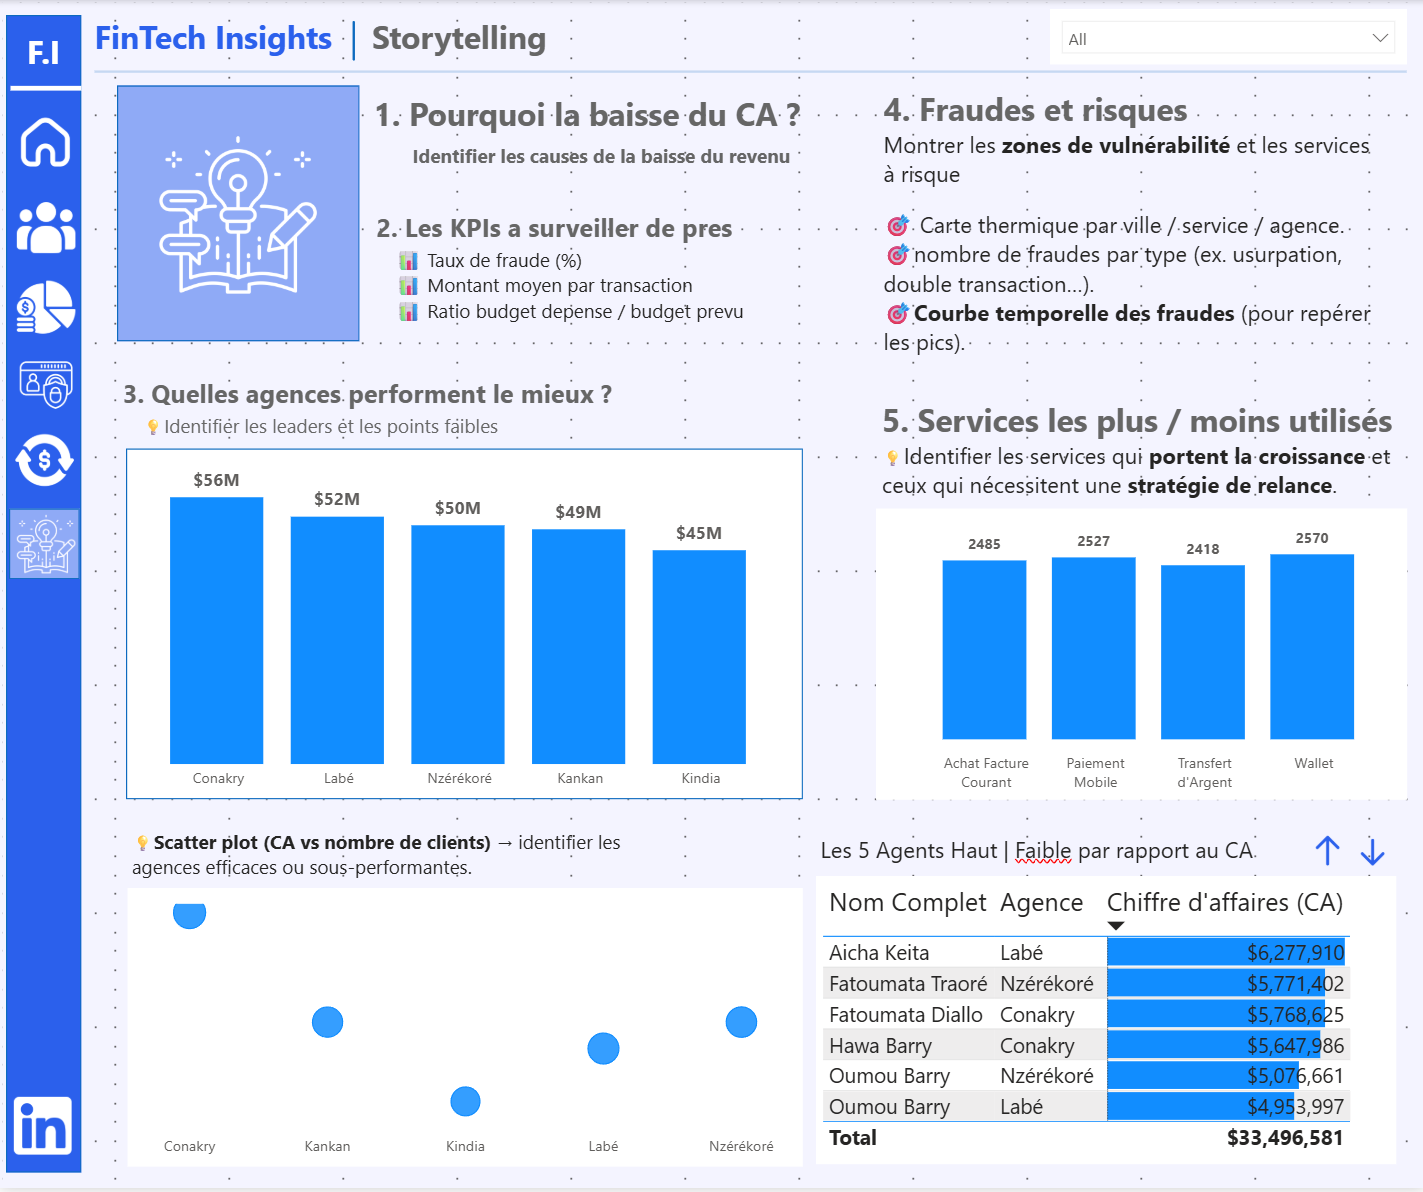

The page's visual inventory and layout, read from the dashboard file:
{"tool":"powerbi","page":{"name":"Storytelling","canvas":[1200,1000],"ordinal":5},"visuals":[{"type":"group","id":"g1","title":"Navigation","box":[5.4,12.3,63.8,974.8],"z":0},{"type":"shape","box":[5.4,12.3,63.5,974.8],"z":0,"group":"g1"},{"type":"shape","box":[79.5,54.7,1105,12],"z":0,"group":"g2"},{"type":"group","id":"g2","title":"Header","box":[74.1,8,1110.4,58.7],"z":1000},{"type":"textbox","box":[74.1,8.4,230,50],"z":1000,"group":"g2"},{"type":"image","box":[6.9,917.7,59.1,59.1],"z":1000,"group":"g1"},{"type":"shape","box":[290.8,18.4,12.2,33.3],"z":2000,"group":"g2"},{"type":"shape","box":[9.5,59.5,59.7,29.9],"z":2000,"group":"g1"},{"type":"shape","box":[98.5,72.6,204.3,215.4],"z":2000},{"type":"textbox","box":[307.7,8,168,47],"z":3000,"group":"g2"},{"type":"textbox","box":[308.9,72.6,376.6,46.8],"z":3000},{"type":"image","box":[9.5,161.2,59.7,59.7],"z":3000,"group":"g1"},{"type":"image","box":[129.2,108.3,142.8,144],"z":4000},{"type":"image","box":[9.5,228,59.7,59.7],"z":4000,"group":"g1"},{"type":"textbox","box":[311.5,170,314.7,46.9],"z":5000},{"type":"image","box":[9.5,294.1,59.7,59.7],"z":5000,"group":"g1"},{"type":"textbox","box":[342.4,115.2,333.9,45.9],"z":6000},{"type":"image","box":[9.5,427.5,59.7,59.7],"z":6000,"group":"g1"},{"type":"textbox","box":[328.5,202,313.6,77.9],"z":7000},{"type":"textbox","box":[98.1,310.4,428.8,46.9],"z":8000},{"type":"shape","box":[8.5,428.3,59.5,59.5],"z":8000,"group":"g1"},{"type":"image","box":[8.4,89.3,60.8,59.7],"z":9000,"group":"g1"},{"type":"textbox","box":[115.2,342.4,313.6,35.2],"z":9000},{"type":"textbox","box":[18,20,50.1,48],"z":10000,"group":"g1"},{"type":"shape","box":[106.3,378.1,570.1,295.4],"z":10000},{"type":"image","box":[7.3,357.1,59.7,59.7],"z":10500,"group":"g1"},{"type":"columnChart","fields":{"Category":["agences.Agence"],"Y":["KPI.Chiffre d'affaires (CA)"]},"box":[97.5,378.1,579,295.4],"z":11000},{"type":"scatterChart","fields":{"X":["agences.Agence"],"Y":["KPI.Nombre de client"],"Size":["KPI.Chiffre d'affaires (CA)"]},"box":[107.8,747.3,568.6,234.8],"z":12000},{"type":"textbox","box":[106.7,692.3,436.3,55.5],"z":13000},{"type":"tableEx","fields":{"Values":["agents.Nom Complet","agents.Agence","KPI.Chiffre d'affaires (CA)"]},"box":[687.2,737.7,488.8,242.5],"z":14000},{"type":"textbox","box":[685.9,697.3,385.3,36.6],"z":15000},{"type":"image","box":[1097.7,696,40.4,40.4],"z":16000},{"type":"image","box":[1135.6,697.3,40.4,40.4],"z":17000},{"type":"textbox","box":[738.9,68.2,282.9,46.7],"z":17001},{"type":"textbox","box":[738.9,103.6,424.4,238.7],"z":17002},{"type":"textbox","box":[737.7,329.7,447.2,146.5],"z":17003},{"type":"columnChart","fields":{"Category":["services.Service"],"Y":["KPI.Nombre total de transactions"]},"box":[737.7,428.2,447.2,245.1],"z":17004},{"type":"slicer","fields":{"Values":["Calendrier.Date.Variation.Date Hierarchy.Month"]},"box":[884.2,7.6,300.6,46.7],"z":17005}]}

Visuals, with their boxes on the page's 1200x1000 design canvas (x1, y1, x2, y2). These are canvas units, not pixel positions in the 1423x1192 screenshot, which may show the page scaled, cropped or inside an application window:
"Navigation" group: 5, 12, 69, 987
shape: 5, 12, 69, 987
shape: 80, 55, 1184, 67
"Header" group: 74, 8, 1184, 67
textbox: 74, 8, 304, 58
image: 7, 918, 66, 977
shape: 291, 18, 303, 52
shape: 10, 60, 69, 89
shape: 98, 73, 303, 288
textbox: 308, 8, 476, 55
textbox: 309, 73, 686, 119
image: 10, 161, 69, 221
image: 129, 108, 272, 252
image: 10, 228, 69, 288
textbox: 312, 170, 626, 217
image: 10, 294, 69, 354
textbox: 342, 115, 676, 161
image: 10, 428, 69, 487
textbox: 328, 202, 642, 280
textbox: 98, 310, 527, 357
shape: 8, 428, 68, 488
image: 8, 89, 69, 149
textbox: 115, 342, 429, 378
textbox: 18, 20, 68, 68
shape: 106, 378, 676, 674
image: 7, 357, 67, 417
columnChart - agences.Agence x KPI.Chiffre d'affaires (CA): 98, 378, 676, 674
scatterChart - agences.Agence x KPI.Nombre de client: 108, 747, 676, 982
textbox: 107, 692, 543, 748
tableEx - agents.Nom Complet x agents.Agence: 687, 738, 1176, 980
textbox: 686, 697, 1071, 734
image: 1098, 696, 1138, 736
image: 1136, 697, 1176, 738
textbox: 739, 68, 1022, 115
textbox: 739, 104, 1163, 342
textbox: 738, 330, 1185, 476
columnChart - services.Service x KPI.Nombre total de transactions: 738, 428, 1185, 673
slicer - Calendrier.Date.Variation.Date Hierarchy.Month: 884, 8, 1185, 54
